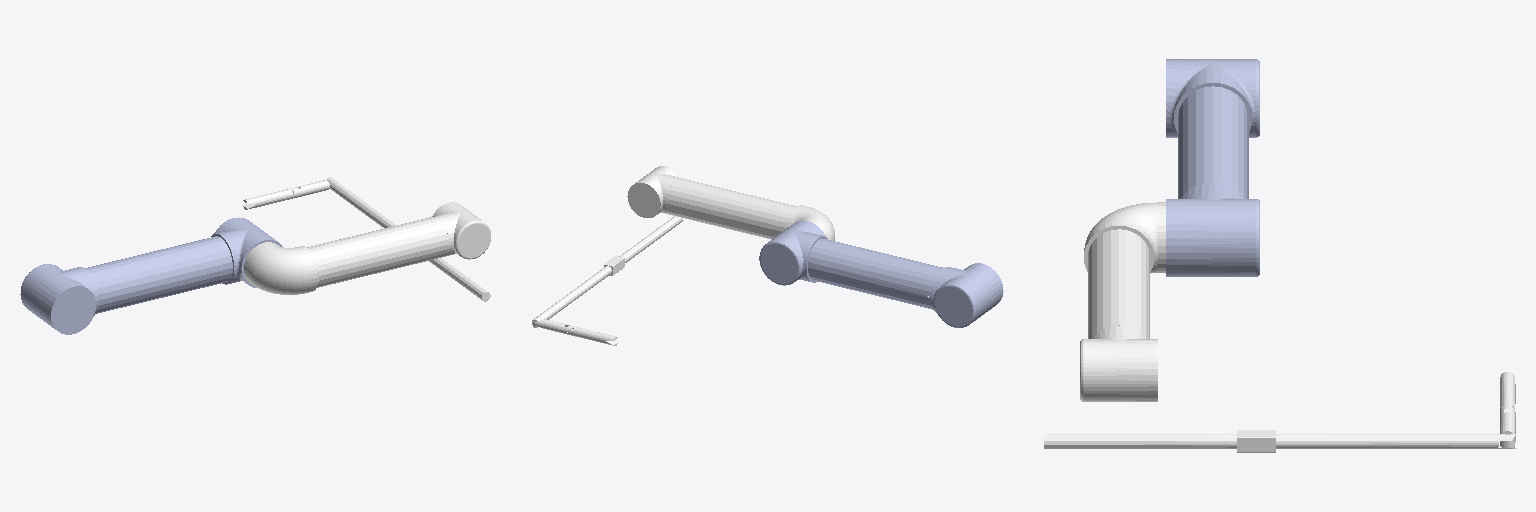
robot.urdf — dofnine4:
<?xml version="1.0" encoding="utf-8"?>
<!-- This URDF was automatically created by SolidWorks to URDF Exporter! Originally created by [author] ([email redacted]) 
     Commit Version: 1.5.1-0-g916b5db  Build Version: 1.5.7152.31018
     For more information, please see http://wiki.ros.org/sw_urdf_exporter -->
<robot
  name="dofnine4">
  <link
    name="base_link">
    <inertial>
      <origin
        xyz="9.17014122667739E-19 0.000618795169331327 0.0130802854264847"
        rpy="0 0 0" />
      <mass
        value="0.382463662284906" />
      <inertia
        ixx="0.000436715101142595"
        ixy="-5.13379791175437E-21"
        ixz="6.91673726804431E-21"
        iyy="0.000451031799669551"
        iyz="7.29000884268053E-07"
        izz="0.000837893536635359" />
    </inertial>
    <visual>
      <origin
        xyz="0 0 0"
        rpy="0 0 0" />
      <geometry>
        <mesh
          filename="package://dofnine4/meshes/base_link.STL" />
      </geometry>
      <material
        name="">
        <color
          rgba="0.792156862745098 0.819607843137255 0.933333333333333 1" />
      </material>
    </visual>
    <collision>
      <origin
        xyz="0 0 0"
        rpy="0 0 0" />
      <geometry>
        <mesh
          filename="package://dofnine4/meshes/base_link.STL" />
      </geometry>
    </collision>
  </link>
  <link
    name="Link1">
    <inertial>
      <origin
        xyz="4.26856191622094E-10 -8.98950775120172E-05 0.00630420916246924"
        rpy="0 0 0" />
      <mass
        value="1.07941290222332" />
      <inertia
        ixx="0.00208785387880582"
        ixy="-1.4826084073053E-10"
        ixz="3.81615434706481E-10"
        iyy="0.00160413020613398"
        iyz="-6.10657722236426E-07"
        izz="0.00191423627434087" />
    </inertial>
    <visual>
      <origin
        xyz="0 0 0"
        rpy="0 0 0" />
      <geometry>
        <mesh
          filename="package://dofnine4/meshes/Link1.STL" />
      </geometry>
      <material
        name="">
        <color
          rgba="0.792156862745098 0.819607843137255 0.933333333333333 1" />
      </material>
    </visual>
    <collision>
      <origin
        xyz="0 0 0"
        rpy="0 0 0" />
      <geometry>
        <mesh
          filename="package://dofnine4/meshes/Link1.STL" />
      </geometry>
    </collision>
  </link>
  <joint
    name="joint1"
    type="revolute">
    <origin
      xyz="0 0 0.09"
      rpy="1.5708 0 3.1416" />
    <parent
      link="base_link" />
    <child
      link="Link1" />
    <axis
      xyz="0 1 0" />
    <limit
      lower="-3.14"
      upper="3.14"
      effort="100"
      velocity="3" />
  </joint>
  <link
    name="Link2">
    <inertial>
      <origin
        xyz="-0.210005372073954 -6.72978339721908E-12 0.119922540954011"
        rpy="0 0 0" />
      <mass
        value="2.55928066457366" />
      <inertia
        ixx="0.00455429949615839"
        ixy="9.5235852027459E-10"
        ixz="5.85104824094678E-07"
        iyy="0.0971147033093044"
        iyz="7.88752118663884E-13"
        izz="0.0961474311368105" />
    </inertial>
    <visual>
      <origin
        xyz="0 0 0"
        rpy="0 0 0" />
      <geometry>
        <mesh
          filename="package://dofnine4/meshes/Link2.STL" />
      </geometry>
      <material
        name="">
        <color
          rgba="0.792156862745098 0.819607843137255 0.933333333333333 1" />
      </material>
    </visual>
    <collision>
      <origin
        xyz="0 0 0"
        rpy="0 0 0" />
      <geometry>
        <mesh
          filename="package://dofnine4/meshes/Link2.STL" />
      </geometry>
    </collision>
  </link>
  <joint
    name="joint2"
    type="revolute">
    <origin
      xyz="0 0 0"
      rpy="0 0 0" />
    <parent
      link="Link1" />
    <child
      link="Link2" />
    <axis
      xyz="0 0 1" />
    <limit
      lower="-3.14"
      upper="3.14"
      effort="100"
      velocity="3" />
  </joint>
  <link
    name="Link3">
    <inertial>
      <origin
        xyz="-0.258297496495133 9.29424508328003E-08 0.00255403577713518"
        rpy="0 0 0" />
      <mass
        value="1.17113450129019" />
      <inertia
        ixx="0.00161010600022899"
        ixy="-1.55189359452696E-08"
        ixz="-0.000775488342638417"
        iyy="0.0306269407559279"
        iyz="2.77993622374225E-08"
        izz="0.030393600630592" />
    </inertial>
    <visual>
      <origin
        xyz="0 0 0"
        rpy="0 0 0" />
      <geometry>
        <mesh
          filename="package://dofnine4/meshes/Link3.STL" />
      </geometry>
      <material
        name="">
        <color
          rgba="1 1 1 1" />
      </material>
    </visual>
    <collision>
      <origin
        xyz="0 0 0"
        rpy="0 0 0" />
      <geometry>
        <mesh
          filename="package://dofnine4/meshes/Link3.STL" />
      </geometry>
    </collision>
  </link>
  <joint
    name="joint3"
    type="revolute">
    <origin
      xyz="-0.42 0 0"
      rpy="0 0 0" />
    <parent
      link="Link2" />
    <child
      link="Link3" />
    <axis
      xyz="0 0 1" />
    <limit
      lower="-3.14"
      upper="3.14"
      effort="100"
      velocity="3" />
  </joint>
  <link
    name="Link4">
    <inertial>
      <origin
        xyz="1.22980003958162E-09 -0.00561370801496067 0.000110059919152264"
        rpy="0 0 0" />
      <mass
        value="0.582005099414678" />
      <inertia
        ixx="0.000761796751548953"
        ixy="1.4963474595435E-11"
        ixz="4.47914161145852E-11"
        iyy="0.000689442860316129"
        iyz="-3.5958850430224E-07"
        izz="0.00056433773579828" />
    </inertial>
    <visual>
      <origin
        xyz="0 0 0"
        rpy="0 0 0" />
      <geometry>
        <mesh
          filename="package://dofnine4/meshes/Link4.STL" />
      </geometry>
      <material
        name="">
        <color
          rgba="1 1 1 1" />
      </material>
    </visual>
    <collision>
      <origin
        xyz="0 0 0"
        rpy="0 0 0" />
      <geometry>
        <mesh
          filename="package://dofnine4/meshes/Link4.STL" />
      </geometry>
    </collision>
  </link>
  <joint
    name="joint4"
    type="revolute">
    <origin
      xyz="-0.4 0 0.1"
      rpy="1.5708 0 0" />
    <parent
      link="Link3" />
    <child
      link="Link4" />
    <axis
      xyz="0 -1 0" />
    <limit
      lower="-3.14"
      upper="3.14"
      effort="100"
      velocity="3" />
  </joint>
  <link
    name="Link5">
    <inertial>
      <origin
        xyz="-1.10254394503073E-09 0.00606080729798903 -0.000876771161951687"
        rpy="0 0 0" />
      <mass
        value="0.539069799173127" />
      <inertia
        ixx="0.000700054524920547"
        ixy="2.80818700531353E-11"
        ixz="-3.75358864544162E-11"
        iyy="0.00062916185295728"
        iyz="-2.86426233934681E-06"
        izz="0.000545629458857338" />
    </inertial>
    <visual>
      <origin
        xyz="0 0 0"
        rpy="0 0 0" />
      <geometry>
        <mesh
          filename="package://dofnine4/meshes/Link5.STL" />
      </geometry>
      <material
        name="">
        <color
          rgba="1 1 1 1" />
      </material>
    </visual>
    <collision>
      <origin
        xyz="0 0 0"
        rpy="0 0 0" />
      <geometry>
        <mesh
          filename="package://dofnine4/meshes/Link5.STL" />
      </geometry>
    </collision>
  </link>
  <joint
    name="joint5"
    type="revolute">
    <origin
      xyz="0 0 0.1"
      rpy="-1.5708 0 0" />
    <parent
      link="Link4" />
    <child
      link="Link5" />
    <axis
      xyz="0 -1 0" />
    <limit
      lower="-3.14"
      upper="3.14"
      effort="100"
      velocity="3" />
  </joint>
  <link
    name="Link6">
    <inertial>
      <origin
        xyz="-3.33066907387547E-16 5.3776427755281E-17 -0.0250000000000002"
        rpy="0 0 0" />
      <mass
        value="0.00844911636473055" />
      <inertia
        ixx="2.33861406079627E-06"
        ixy="-1.2924697071142E-23"
        ixz="1.32000780054905E-21"
        iyy="2.33861406079627E-06"
        iyz="7.22353276953213E-23"
        izz="1.15676296962146E-06" />
    </inertial>
    <visual>
      <origin
        xyz="0 0 0"
        rpy="0 0 0" />
      <geometry>
        <mesh
          filename="package://dofnine4/meshes/Link6.STL" />
      </geometry>
      <material
        name="">
        <color
          rgba="1 1 1 1" />
      </material>
    </visual>
    <collision>
      <origin
        xyz="0 0 0"
        rpy="0 0 0" />
      <geometry>
        <mesh
          filename="package://dofnine4/meshes/Link6.STL" />
      </geometry>
    </collision>
  </link>
  <joint
    name="joint6"
    type="revolute">
    <origin
      xyz="0 0 0.1"
      rpy="0 0 0" />
    <parent
      link="Link5" />
    <child
      link="Link6" />
    <axis
      xyz="0 0 1" />
    <limit
      lower="-3.14"
      upper="3.14"
      effort="100"
      velocity="3" />
  </joint>
  <link
    name="Link7">
    <inertial>
      <origin
        xyz="3.18854742609176E-09 -0.297660360929499 2.98166331832994E-08"
        rpy="0 0 0" />
      <mass
        value="0.183617294024981" />
      <inertia
        ixx="0.00524294237262041"
        ixy="-1.42815452318038E-10"
        ixz="2.89096367391935E-13"
        iyy="9.23296314885479E-06"
        iyz="-1.3377812848702E-09"
        izz="0.00524285615727471" />
    </inertial>
    <visual>
      <origin
        xyz="0 0 0"
        rpy="0 0 0" />
      <geometry>
        <mesh
          filename="package://dofnine4/meshes/Link7.STL" />
      </geometry>
      <material
        name="">
        <color
          rgba="1 1 1 1" />
      </material>
    </visual>
    <collision>
      <origin
        xyz="0 0 0"
        rpy="0 0 0" />
      <geometry>
        <mesh
          filename="package://dofnine4/meshes/Link7.STL" />
      </geometry>
    </collision>
  </link>
  <joint
    name="joint7"
    type="prismatic">
    <origin
      xyz="0 0 0.04"
      rpy="1.5708 0 0" />
    <parent
      link="Link6" />
    <child
      link="Link7" />
    <axis
      xyz="0 1 0" />
    <limit
      lower="0.01"
      upper="0.5"
      effort="100"
      velocity="3" />
  </joint>
  <link
    name="Link8">
    <inertial>
      <origin
        xyz="0.0367515090957904 3.9743794338909E-08 4.67182923076515E-09"
        rpy="0 0 0" />
      <mass
        value="0.0238747438440848" />
      <inertia
        ixx="1.19707364590308E-06"
        ixy="-3.82912865565906E-11"
        ixz="-4.42953916227951E-12"
        iyy="1.44418724339531E-05"
        iyz="-8.14229112368807E-14"
        izz="1.45882633135747E-05" />
    </inertial>
    <visual>
      <origin
        xyz="0 0 0"
        rpy="0 0 0" />
      <geometry>
        <mesh
          filename="package://dofnine4/meshes/Link8.STL" />
      </geometry>
      <material
        name="">
        <color
          rgba="1 1 1 1" />
      </material>
    </visual>
    <collision>
      <origin
        xyz="0 0 0"
        rpy="0 0 0" />
      <geometry>
        <mesh
          filename="package://dofnine4/meshes/Link8.STL" />
      </geometry>
    </collision>
  </link>
  <joint
    name="joint8"
    type="revolute">
    <origin
      xyz="0 0 0"
      rpy="0 0 0" />
    <parent
      link="Link7" />
    <child
      link="Link8" />
    <axis
      xyz="0 0 -1" />
    <limit
      lower="-3.14"
      upper="3.14"
      effort="100"
      velocity="3" />
  </joint>
  <link
    name="Link9">
    <inertial>
      <origin
        xyz="0.0509634073607842 2.94902990916057E-17 -1.66533453693773E-16"
        rpy="0 0 0" />
      <mass
        value="0.0330778237140973" />
      <inertia
        ixx="1.63246639041242E-06"
        ixy="-5.33023335267237E-21"
        ixz="-1.56202327628569E-19"
        iyy="3.33087605310079E-05"
        iyz="-9.26063522676001E-22"
        izz="3.34236789352973E-05" />
    </inertial>
    <visual>
      <origin
        xyz="0 0 0"
        rpy="0 0 0" />
      <geometry>
        <mesh
          filename="package://dofnine4/meshes/Link9.STL" />
      </geometry>
      <material
        name="">
        <color
          rgba="1 1 1 1" />
      </material>
    </visual>
    <collision>
      <origin
        xyz="0 0 0"
        rpy="0 0 0" />
      <geometry>
        <mesh
          filename="package://dofnine4/meshes/Link9.STL" />
      </geometry>
    </collision>
  </link>
  <joint
    name="joint9"
    type="revolute">
    <origin
      xyz="0.08 0 0"
      rpy="-1.5708 0 0" />
    <parent
      link="Link8" />
    <child
      link="Link9" />
    <axis
      xyz="0 0 1" />
    <limit
      lower="-3.14"
      upper="3.14"
      effort="100"
      velocity="3" />
  </joint>
</robot>

--- Render facts (derived) ---
3 views of the same robot in one strip: view 1: azimuth 30°, elevation 25°; view 2: azimuth 150°, elevation 25°; view 3: azimuth 270°, elevation 25° (orthographic).
Model dofnine4 with 10 links and 9 joints (8 revolute, 1 prismatic), rooted at base_link, posed all joints at 0 but 1 set to mid-range because 0 is outside their limits (joint7 = 0.255).
Visible links, largest first — view 1: Link2, Link3, Link7, Link9; view 2: Link2, Link3, Link7; view 3: Link2, Link3, Link7, Link6, Link9.
Boxes of the visible links, x1,y1,x2,y2 form: Link2: (20, 217, 282, 334); Link3: (244, 202, 490, 294); Link7: (327, 177, 490, 301); Link9: (243, 187, 298, 209); Link2: (759, 221, 1003, 327); Link3: (627, 166, 834, 240); Link7: (532, 216, 682, 327); Link2: (1166, 59, 1259, 276); Link3: (1080, 202, 1165, 401); Link7: (1044, 434, 1515, 448); Link6: (1237, 430, 1275, 452); Link9: (1500, 372, 1515, 412).
Size in the robot's own frame: 0.91 by 0.6 by 0.161 metres.
Meshes: 10 distinct files referenced, 6 mesh visuals loaded (6 binary STL); not drawn: 4 (reference not matched to a file when rendering).
